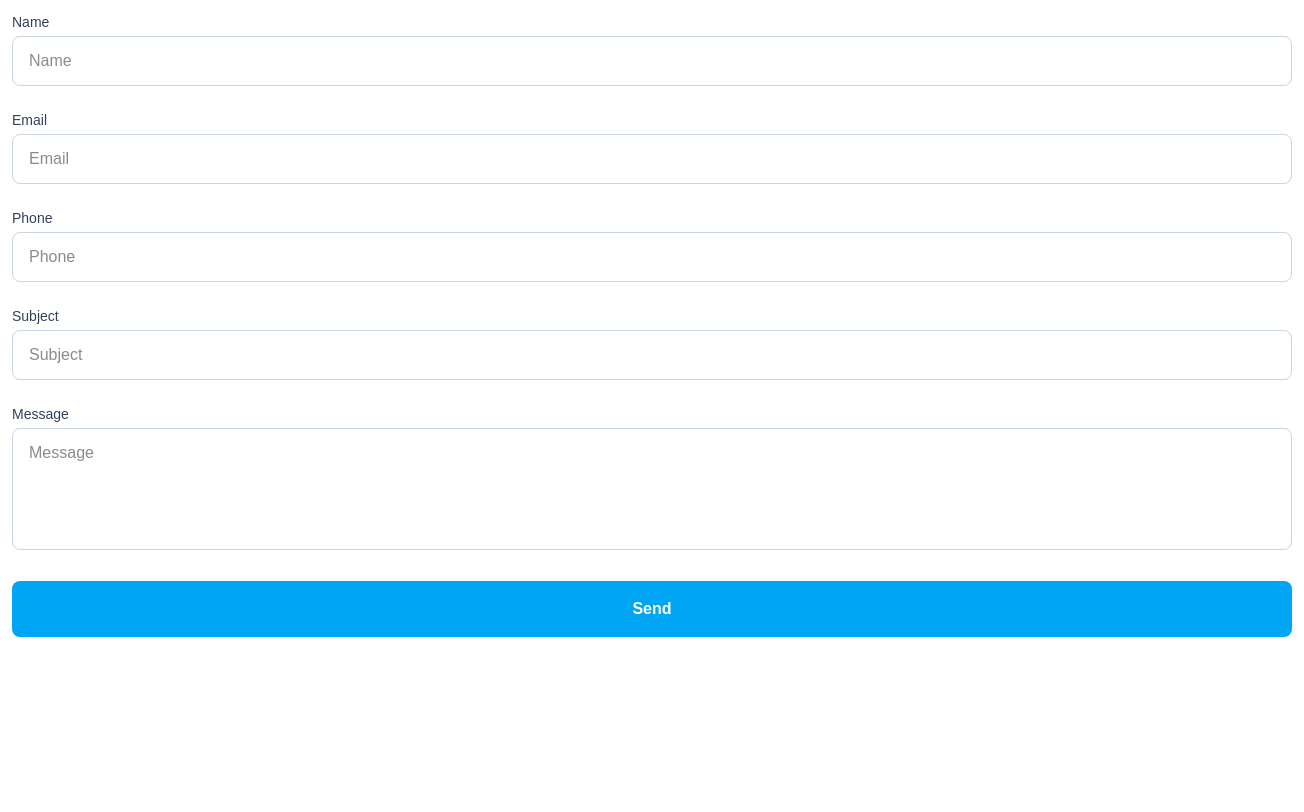
Test: ContactForm › should disable submit button while loading
This screenshot has width=1304, height=812.
In the field labelled "Name": (652, 61) [12,36,1292,86], type "John Doe"
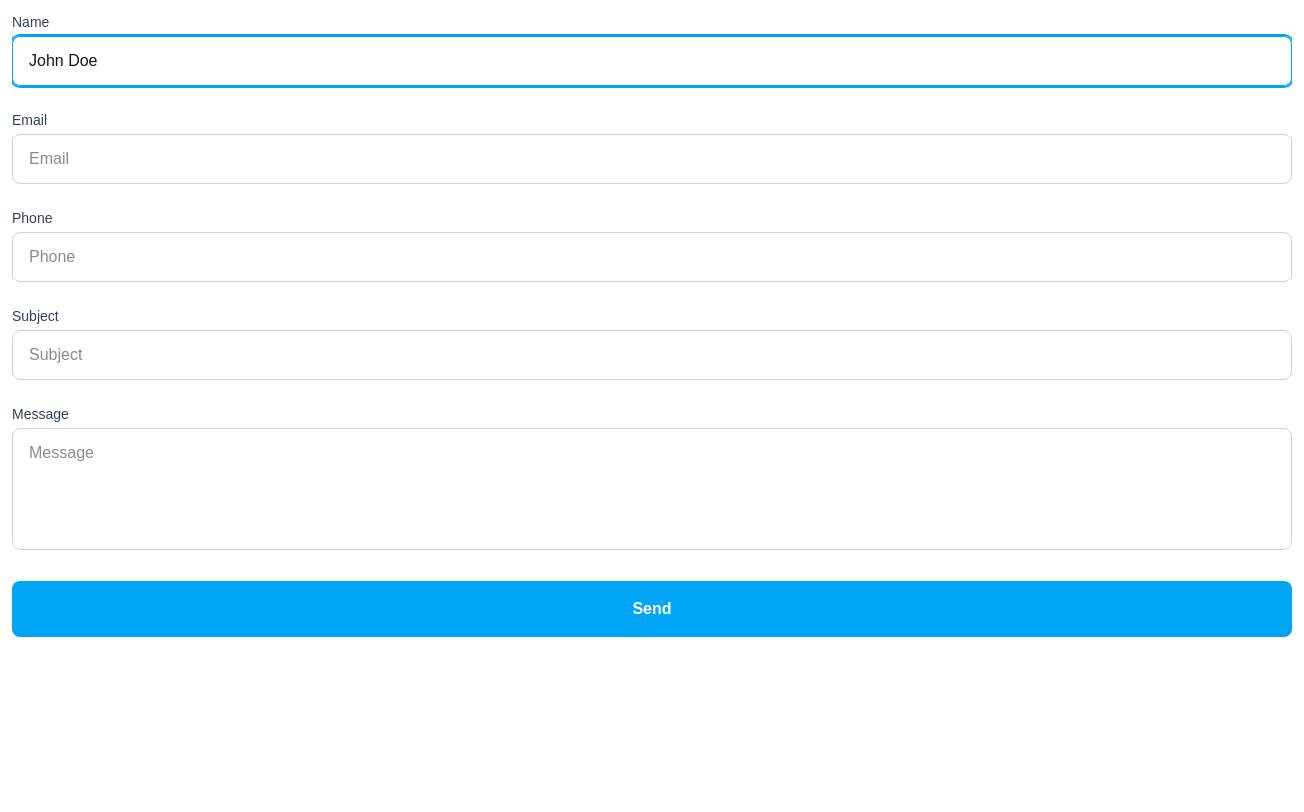
In the field labelled "Email": (652, 159) [12,134,1292,184], type "john@example.com"
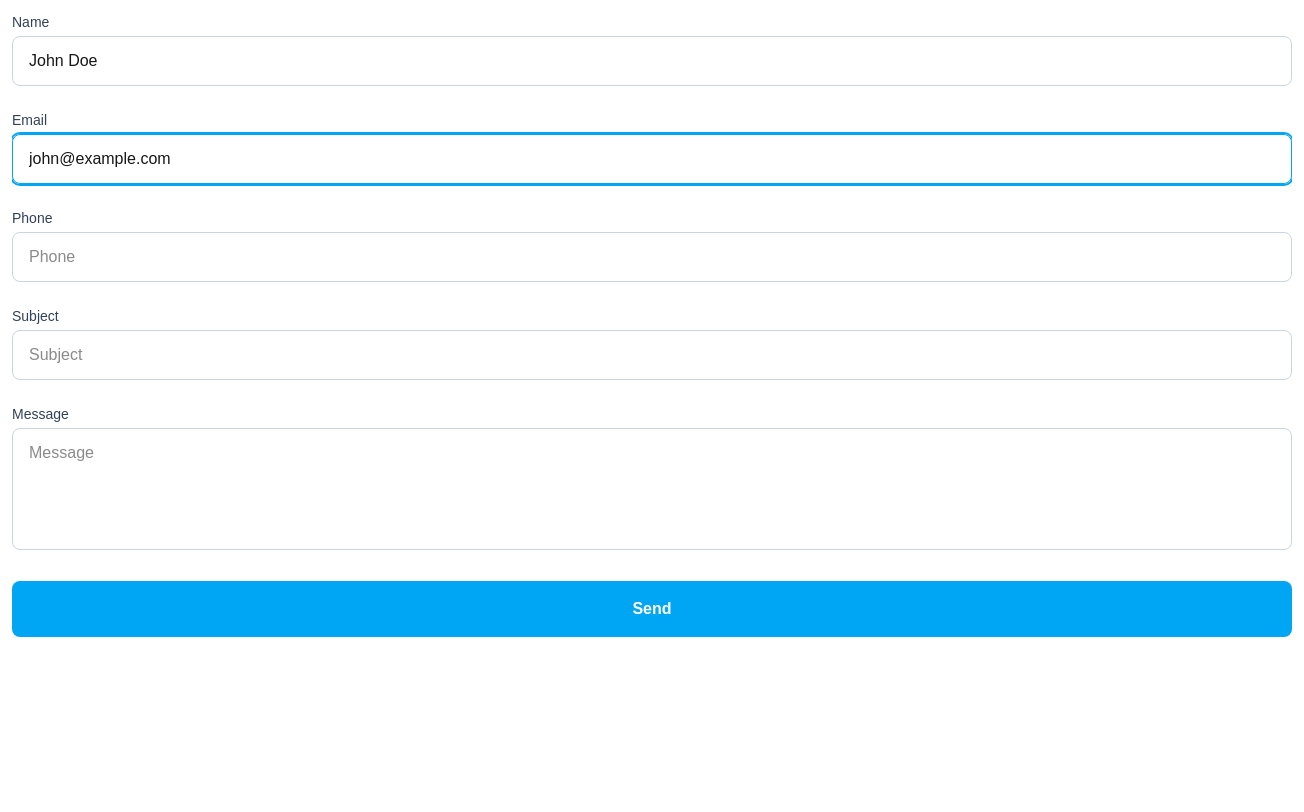
In the text box labelled "Message": (652, 489) [12,428,1292,550], type "This is a test message"
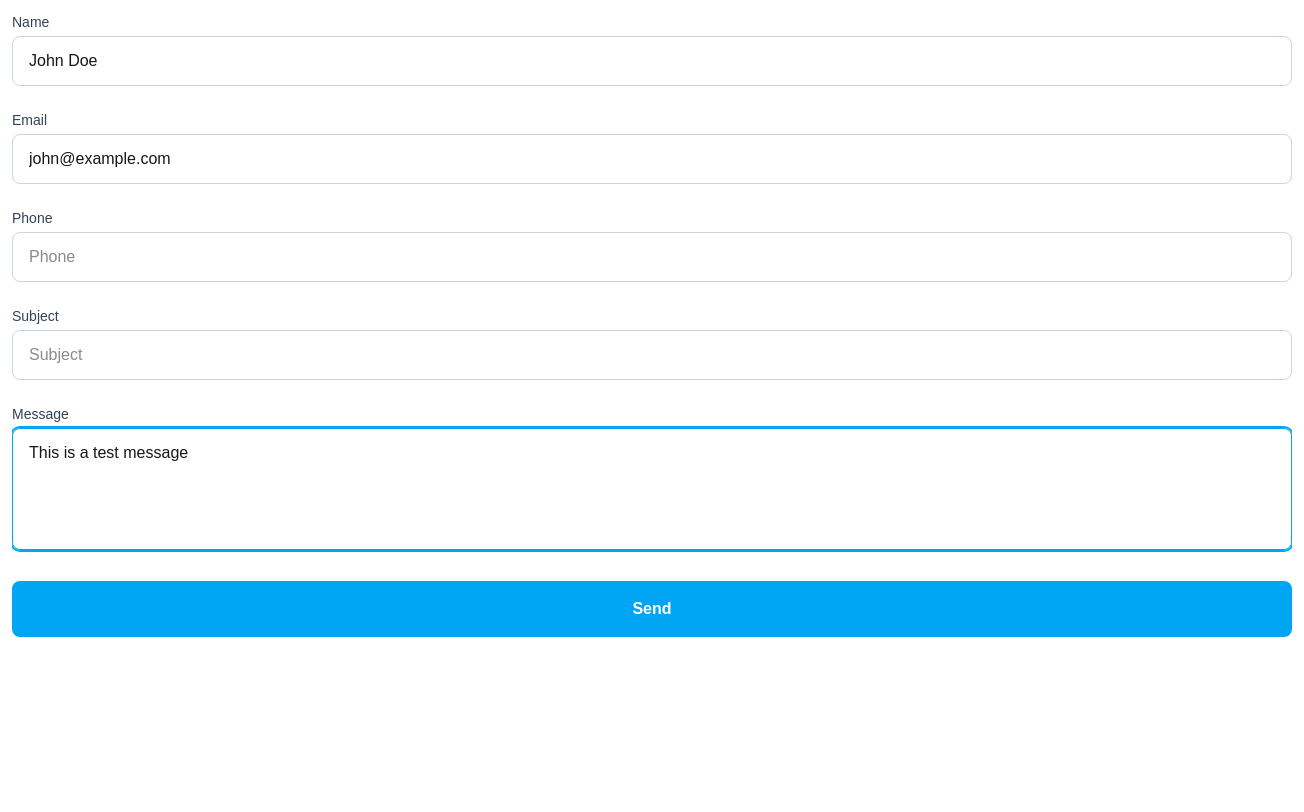
Click the button "Send": (652, 609) [12,581,1292,637]
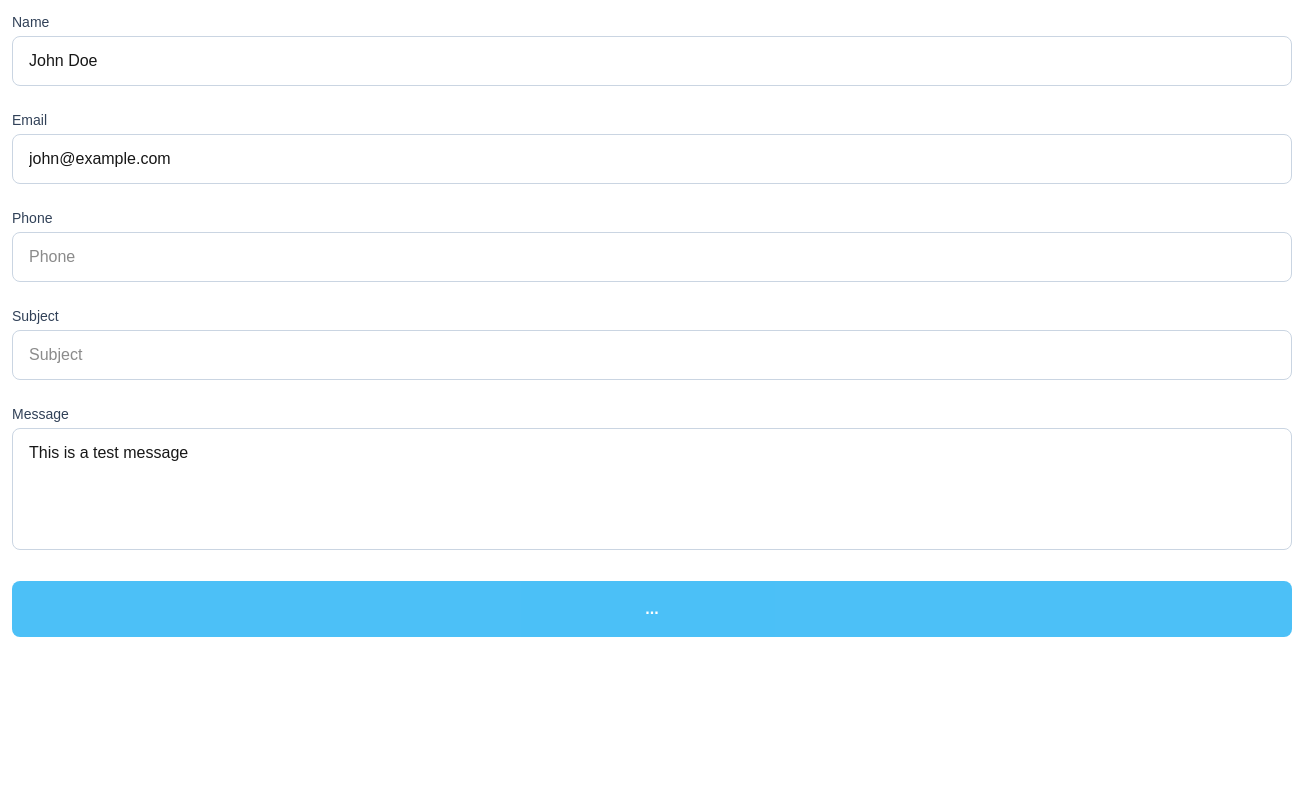
Result: the button named "send" is disabled at [12,581,1292,637]
Result: the button named "send" reads "..." at [12,581,1292,637]
